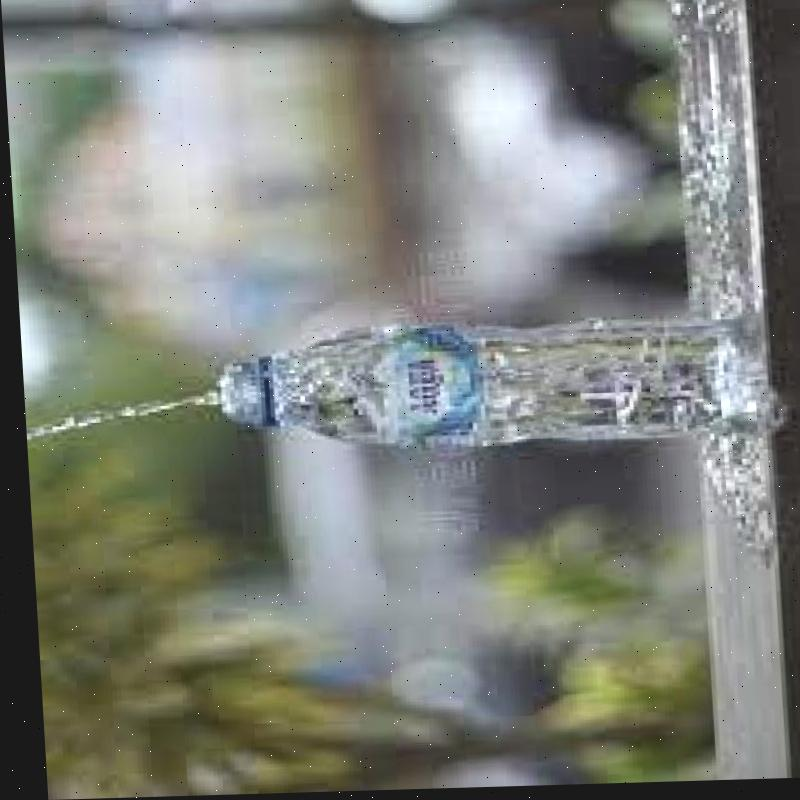botella: (221, 319, 752, 460)
